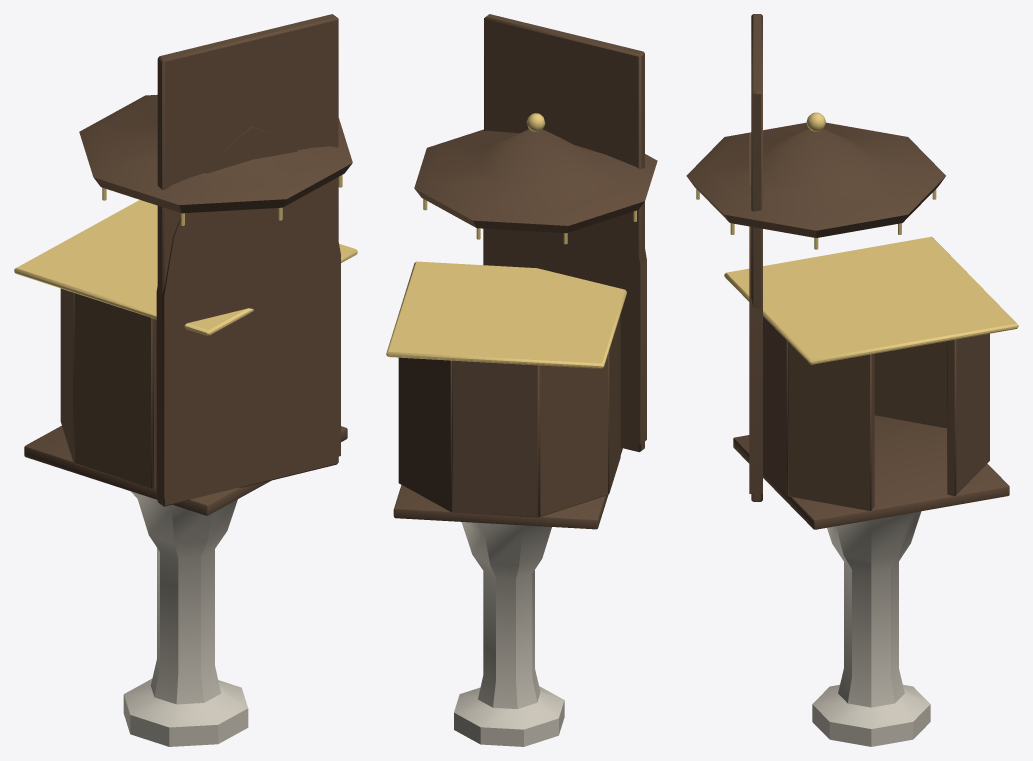
File: chi_pulpito.fbx
3 views of the same model, side by side, from view 1: azimuth 30°, elevation 25°; view 2: azimuth 150°, elevation 25°; view 3: azimuth 270°, elevation 25° (orthographic). The views are drawn at different scales.
Visible parts, largest first — view 1: chi_pulpito_legno, chi_pulpito_pietra, chi_pulpito_oro; view 2: chi_pulpito_legno, chi_pulpito_oro, chi_pulpito_pietra; view 3: chi_pulpito_legno, chi_pulpito_oro, chi_pulpito_pietra.
Part boxes in pixels (x1,y1,x2,y2): chi_pulpito_legno: (24, 14, 352, 515); chi_pulpito_pietra: (123, 491, 248, 746); chi_pulpito_oro: (14, 175, 357, 336); chi_pulpito_legno: (393, 14, 657, 529); chi_pulpito_oro: (386, 113, 636, 368); chi_pulpito_pietra: (454, 522, 564, 746); chi_pulpito_legno: (686, 14, 1009, 529); chi_pulpito_oro: (696, 112, 1018, 364); chi_pulpito_pietra: (812, 511, 930, 746).
Bounding box in the file's own units: 1.49 × 3.75 × 1.69.
